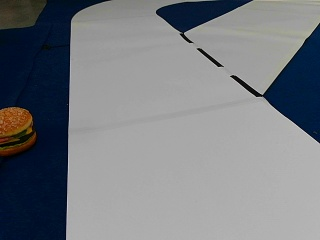burger: (0, 104, 37, 156)
